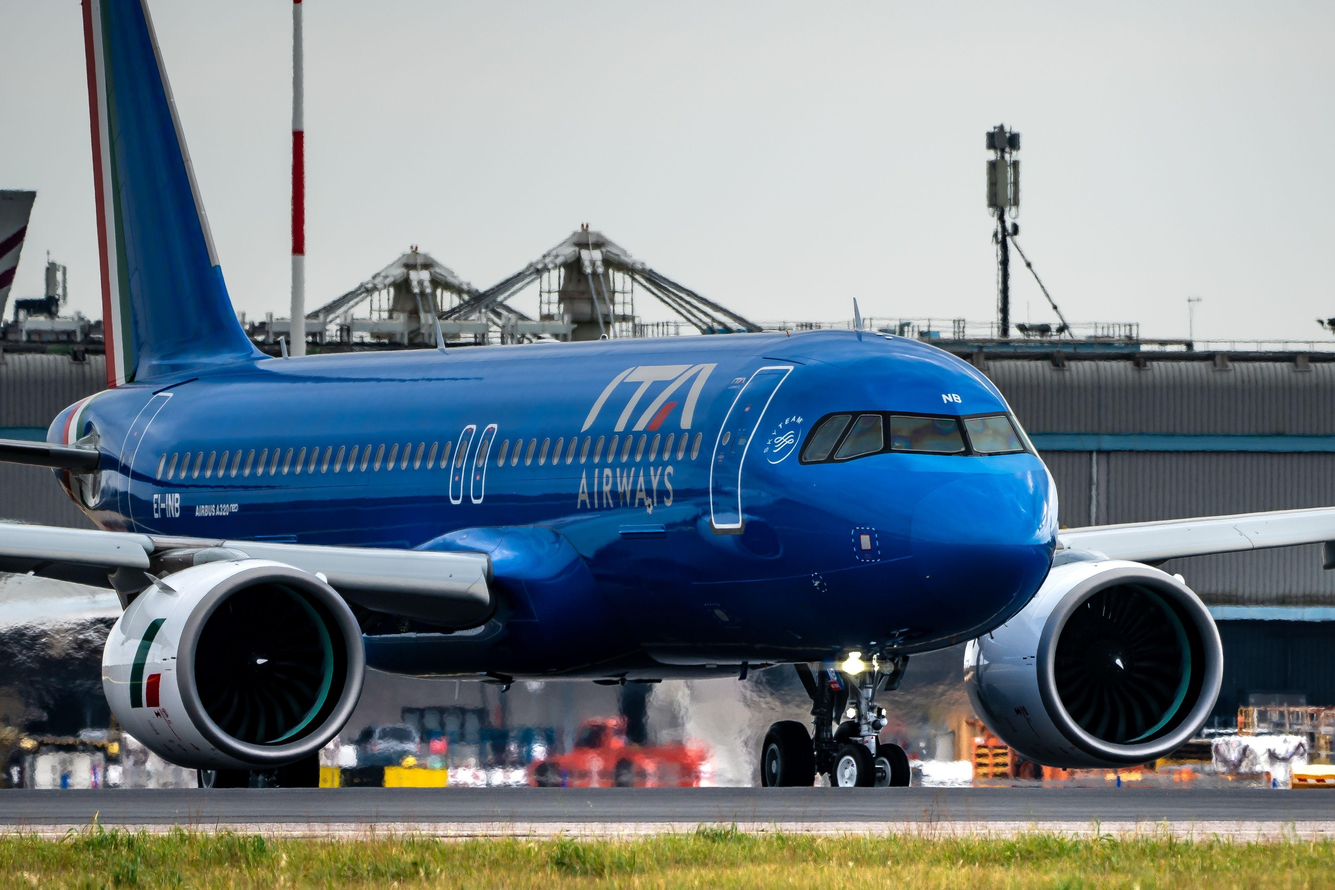aircraft: (1, 4, 1313, 782), (11, 296, 1324, 789)
